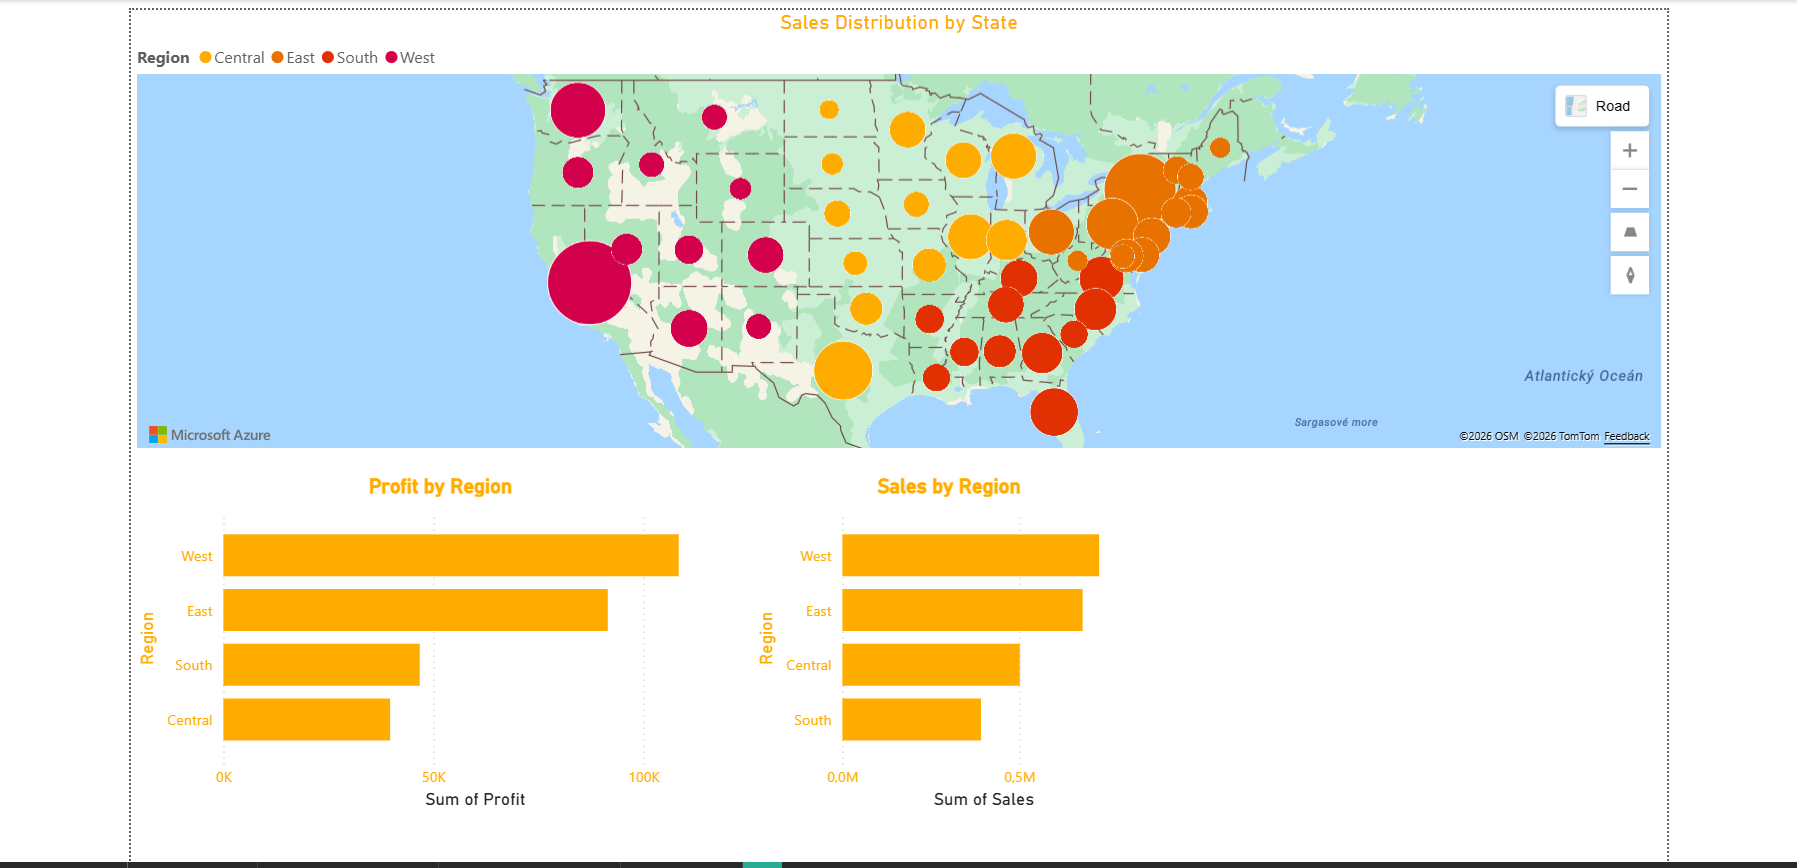

The dashboard page shown, as its layout file describes it:
{"tool":"powerbi","page":{"name":"Sales Geographic Analysis","canvas":[1280,720],"ordinal":2},"visuals":[{"type":"azureMap","title":"Sales Distribution by State","fields":{"Category":["Sales.State"],"Size":["Sum(Sales.Sales)"],"Series":["Sales.Region"]},"box":[0,0,1280.4,370],"z":0},{"type":"clusteredBarChart","title":" Profit by Region","fields":{"Category":["Sales.Region"],"Y":["Sum(Sales.Profit)"]},"box":[0,386.3,516,283.8],"z":1},{"type":"clusteredBarChart","title":"Sales by Region","fields":{"Category":["Sales.Region"],"Y":["Sum(Sales.Sales)"]},"box":[516,386.3,331.9,283.8],"z":2}]}

Visuals, with their boxes on the page's 1280x720 design canvas (x1, y1, x2, y2). These are canvas units, not pixel positions in the 1797x868 screenshot, which may show the page scaled, cropped or inside an application window:
"Sales Distribution by State" azureMap: region(0, 0, 1280, 370)
" Profit by Region" clusteredBarChart: region(0, 386, 516, 670)
"Sales by Region" clusteredBarChart: region(516, 386, 848, 670)
